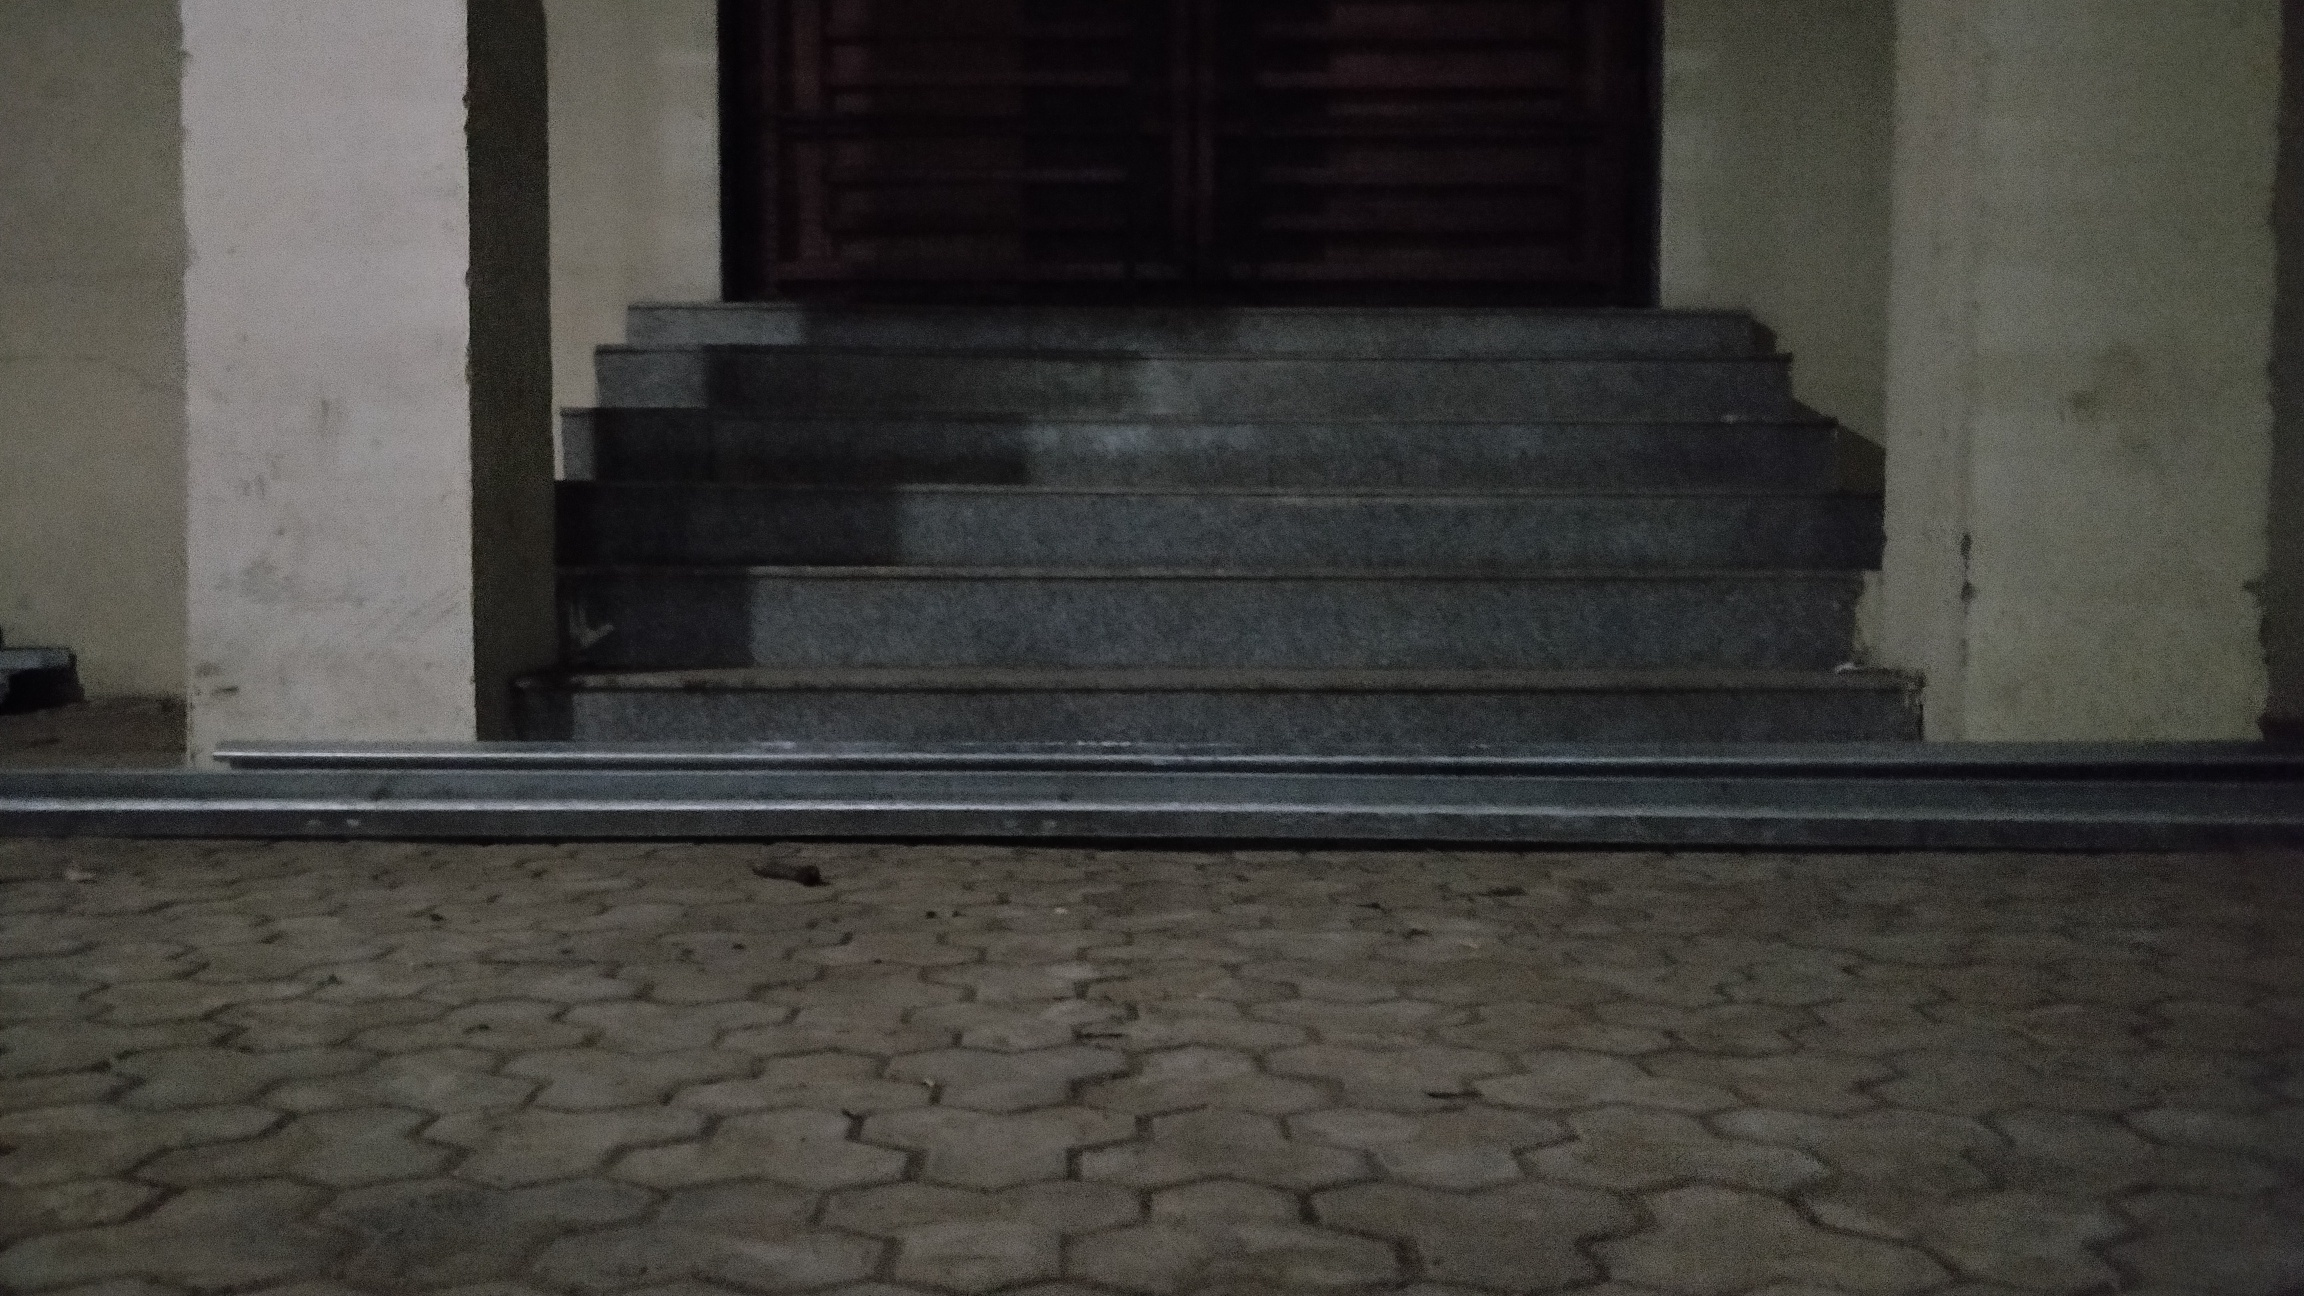stairs_up: (562, 297, 1905, 739)
